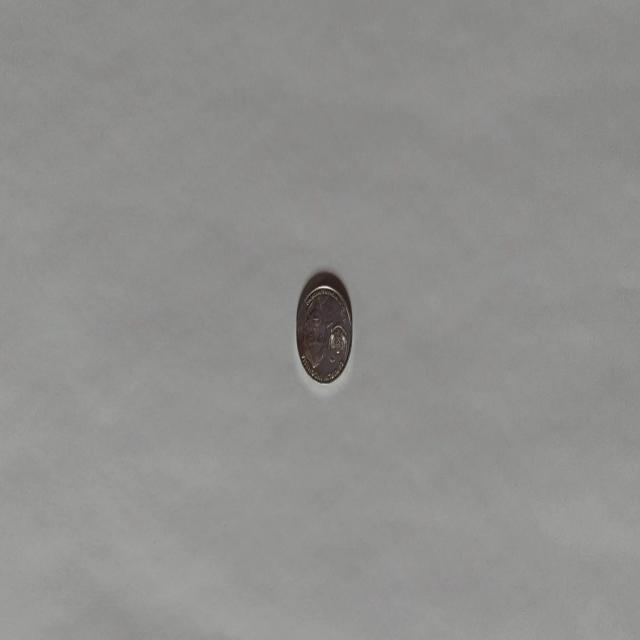dua ratus rupiah: (295, 272, 353, 385)
